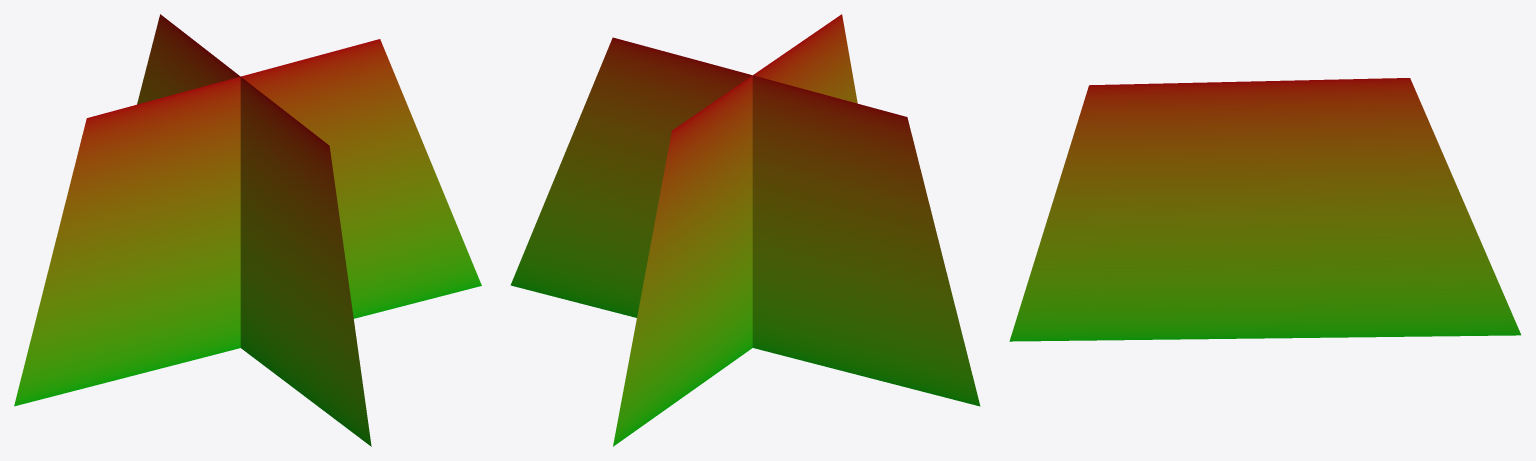
Rendered from Var9_LOD5.fbx.
3 views of the same model, side by side, from view 1: azimuth 30°, elevation 25°; view 2: azimuth 150°, elevation 25°; view 3: azimuth 270°, elevation 25° (orthographic). The views are drawn at different scales.
Visible parts, largest first — view 1: _pzgn_Var9_LOD5; view 2: _pzgn_Var9_LOD5; view 3: _pzgn_Var9_LOD5.
Boxes of the visible parts, x1=… form: _pzgn_Var9_LOD5: x1=14, y1=14, x2=481, y2=446; _pzgn_Var9_LOD5: x1=510, y1=14, x2=980, y2=446; _pzgn_Var9_LOD5: x1=1009, y1=78, x2=1520, y2=341.
Bounding box in the file's own units: 64.84 × 36.84 × 64.84.
